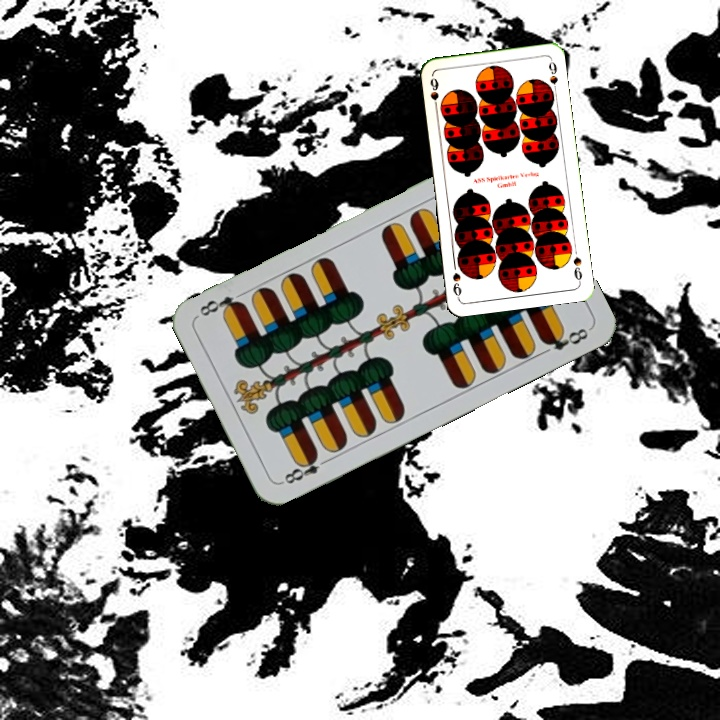E8: (277, 450, 333, 487)
S9: (426, 73, 441, 113), (569, 252, 585, 285)
